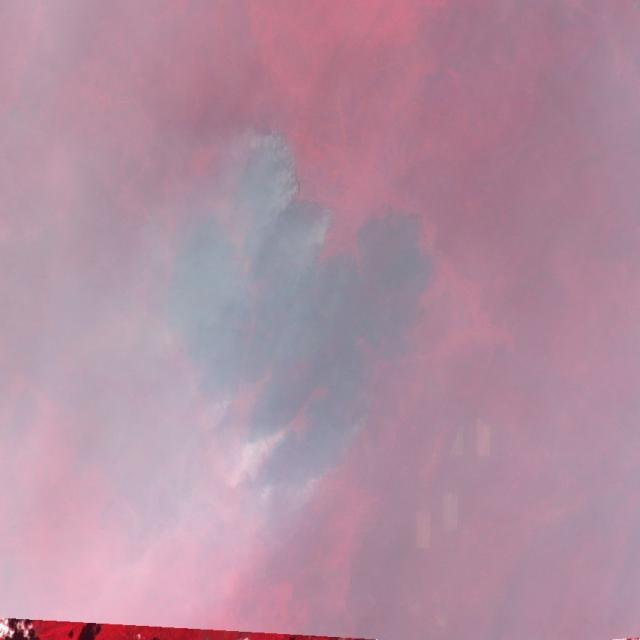fire: (223, 123, 337, 454)
